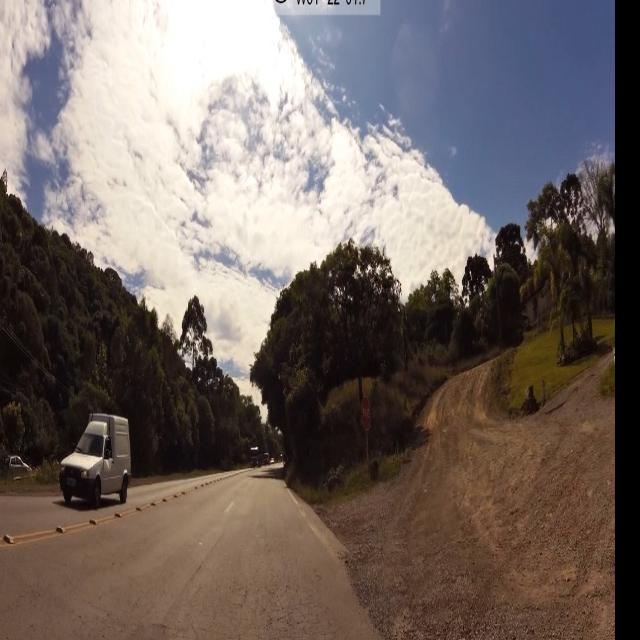R-1: (358, 390, 376, 439)
